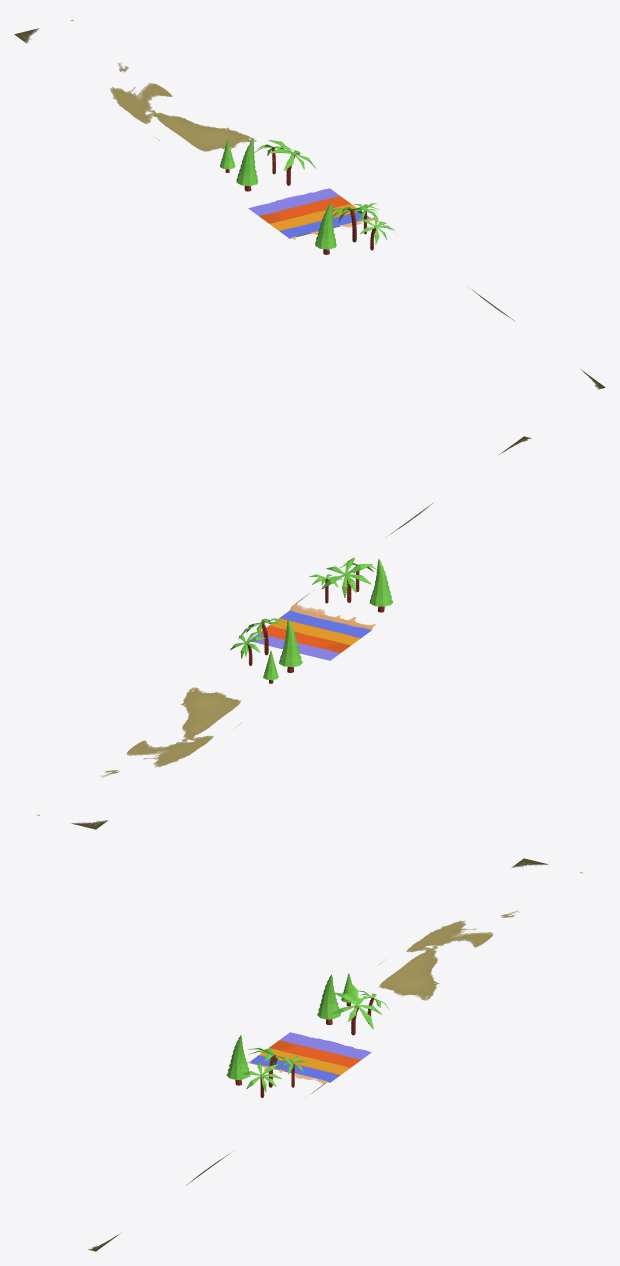
Rendered from forestPart2To3.fbx.
3 views of the same model, one above another, from view 1: azimuth 30°, elevation 25°; view 2: azimuth 150°, elevation 25°; view 3: azimuth 330°, elevation 25° (orthographic).
Visible parts, largest first — view 1: forestPart2To3; view 2: forestPart2To3; view 3: forestPart2To3.
Boxes of the visible parts, left/top/right/bottom form: forestPart2To3: left=14, top=19, right=605, bottom=389; forestPart2To3: left=37, top=436, right=531, bottom=829; forestPart2To3: left=88, top=858, right=582, bottom=1251.
Size of the model in its own units: 1675 by 1001 by 18053.
